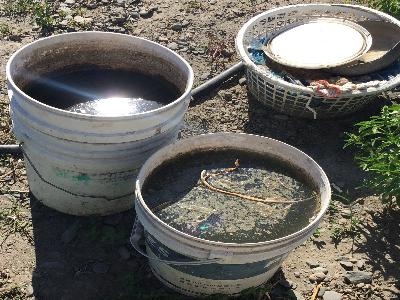bucket: (5, 29, 194, 221), (128, 132, 331, 300)
plate: (265, 15, 375, 71)
